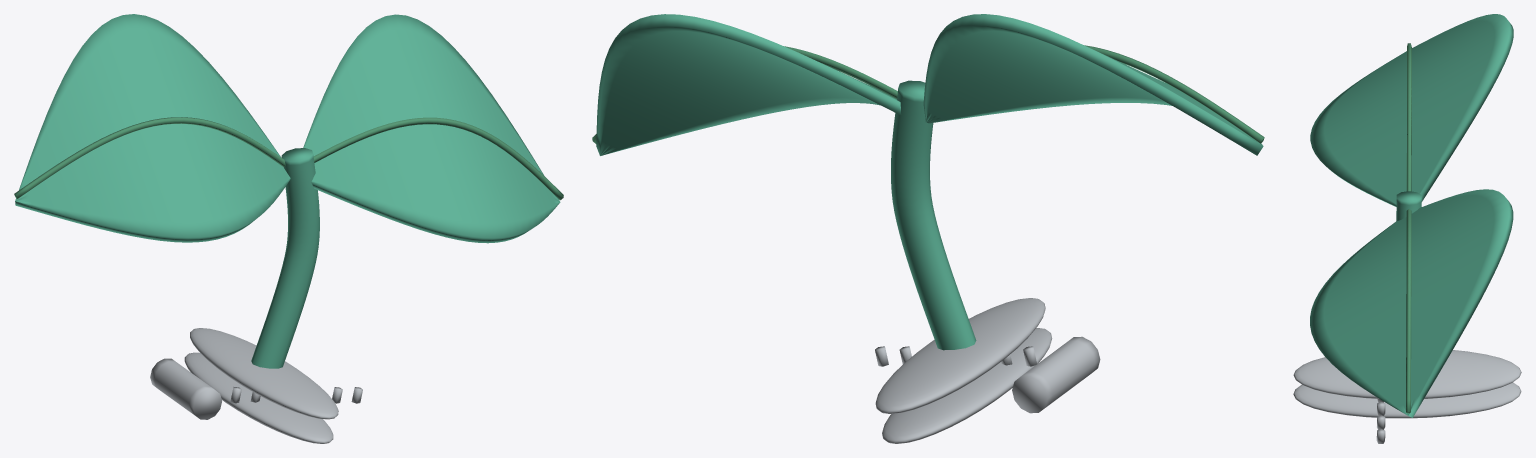
Rendered from Feminine-bob-pashmina261-sprout.glb.
3 views of the same model, side by side, from view 1: azimuth 30°, elevation 25°; view 2: azimuth 150°, elevation 25°; view 3: azimuth 270°, elevation 25° (orthographic). The views are drawn at different scales.
Parts seen in each view (by area): view 1: 226 extra / Accessory / mint226, 226 extra / Sprout / clip silver235, 226 extra / Sprout / leaf vein235; view 2: 226 extra / Accessory / mint226, 226 extra / Sprout / clip silver235, 226 extra / Sprout / leaf vein235; view 3: 226 extra / Accessory / mint226, 226 extra / Sprout / clip silver235, 226 extra / Sprout / leaf vein235.
Part boxes in pixels (<box>): 226 extra / Accessory / mint226: <box>15,14,560,368</box>; 226 extra / Sprout / clip silver235: <box>150,328,362,443</box>; 226 extra / Sprout / leaf vein235: <box>14,117,563,200</box>; 226 extra / Accessory / mint226: <box>596,14,1263,350</box>; 226 extra / Sprout / clip silver235: <box>875,298,1100,443</box>; 226 extra / Sprout / leaf vein235: <box>592,45,1264,143</box>; 226 extra / Accessory / mint226: <box>1310,14,1513,417</box>; 226 extra / Sprout / clip silver235: <box>1293,350,1521,443</box>; 226 extra / Sprout / leaf vein235: <box>1406,43,1411,413</box>.
Size of the model in its own units: 0.2645 by 0.1736 by 0.104.
